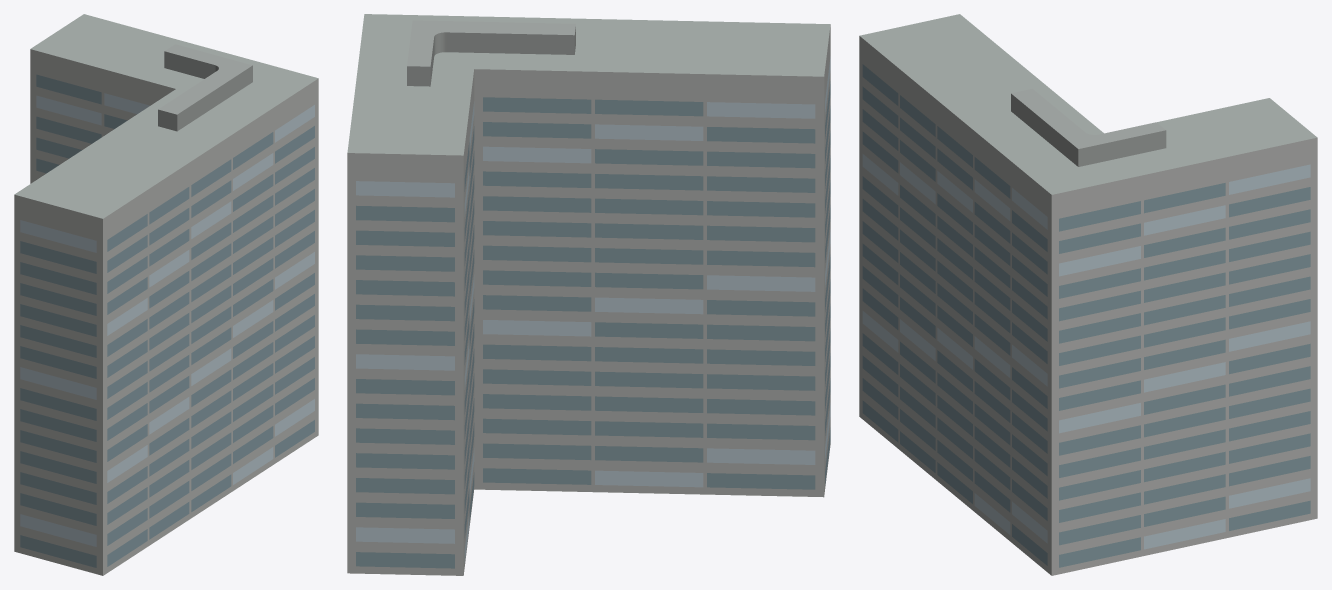
The model's file is apt-a13204301.glb.
3 renders of one model, left to right at view 1: azimuth 30°, elevation 25°; view 2: azimuth 150°, elevation 25°; view 3: azimuth 270°, elevation 25°, orthographic. The views are drawn at different scales.
Visible parts, largest first — view 1: apt-a13204301; view 2: apt-a13204301; view 3: apt-a13204301.
Part boxes in pixels (x1,y1,x2,y2): apt-a13204301: (14, 14, 318, 575); apt-a13204301: (347, 14, 830, 575); apt-a13204301: (859, 14, 1317, 575).
Bounding box in the file's own units: 44.74 × 46 × 47.88.
